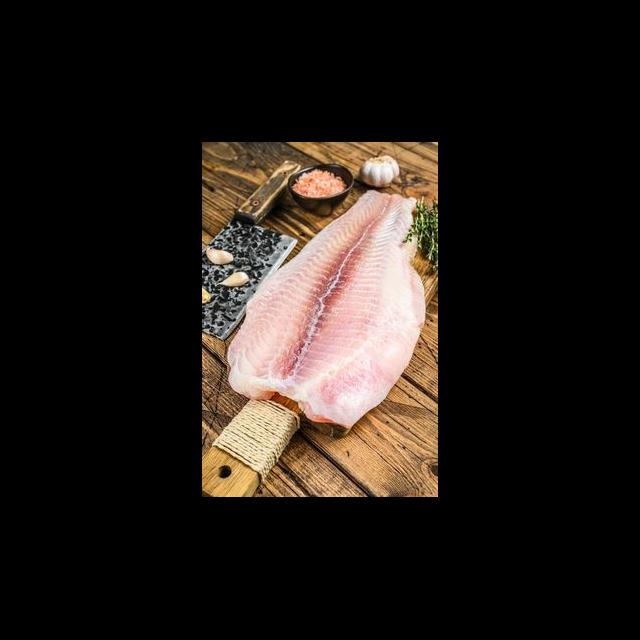fish: (228, 185, 431, 439)
